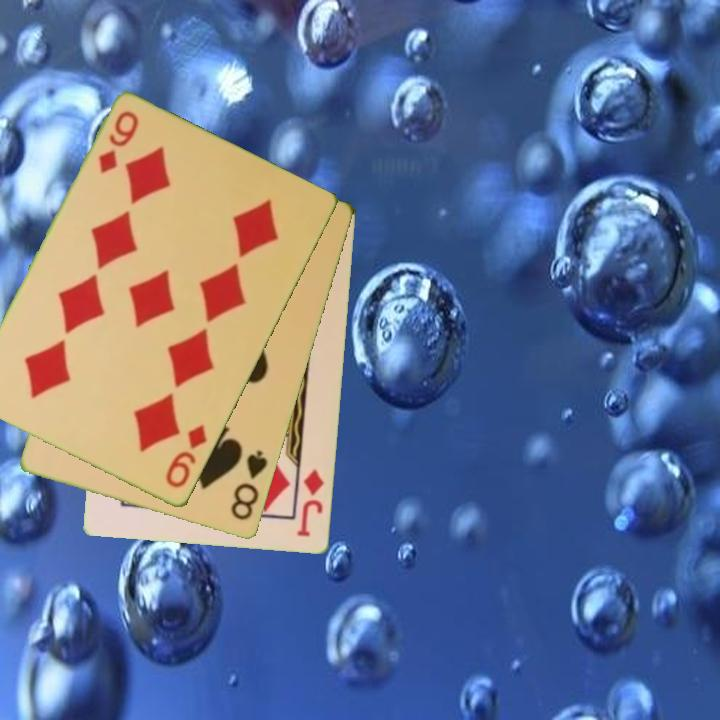8s: (227, 447, 271, 524)
9d: (162, 421, 210, 492), (95, 108, 142, 177)
Jd: (294, 465, 327, 540)
